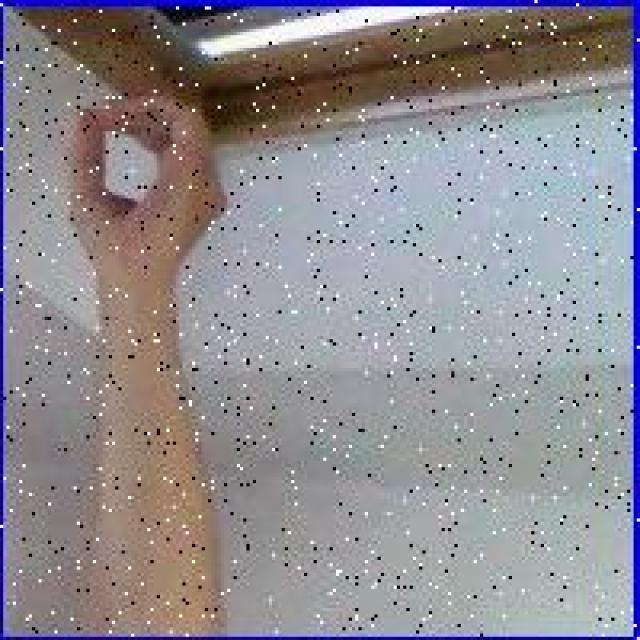O: (60, 88, 234, 264)
